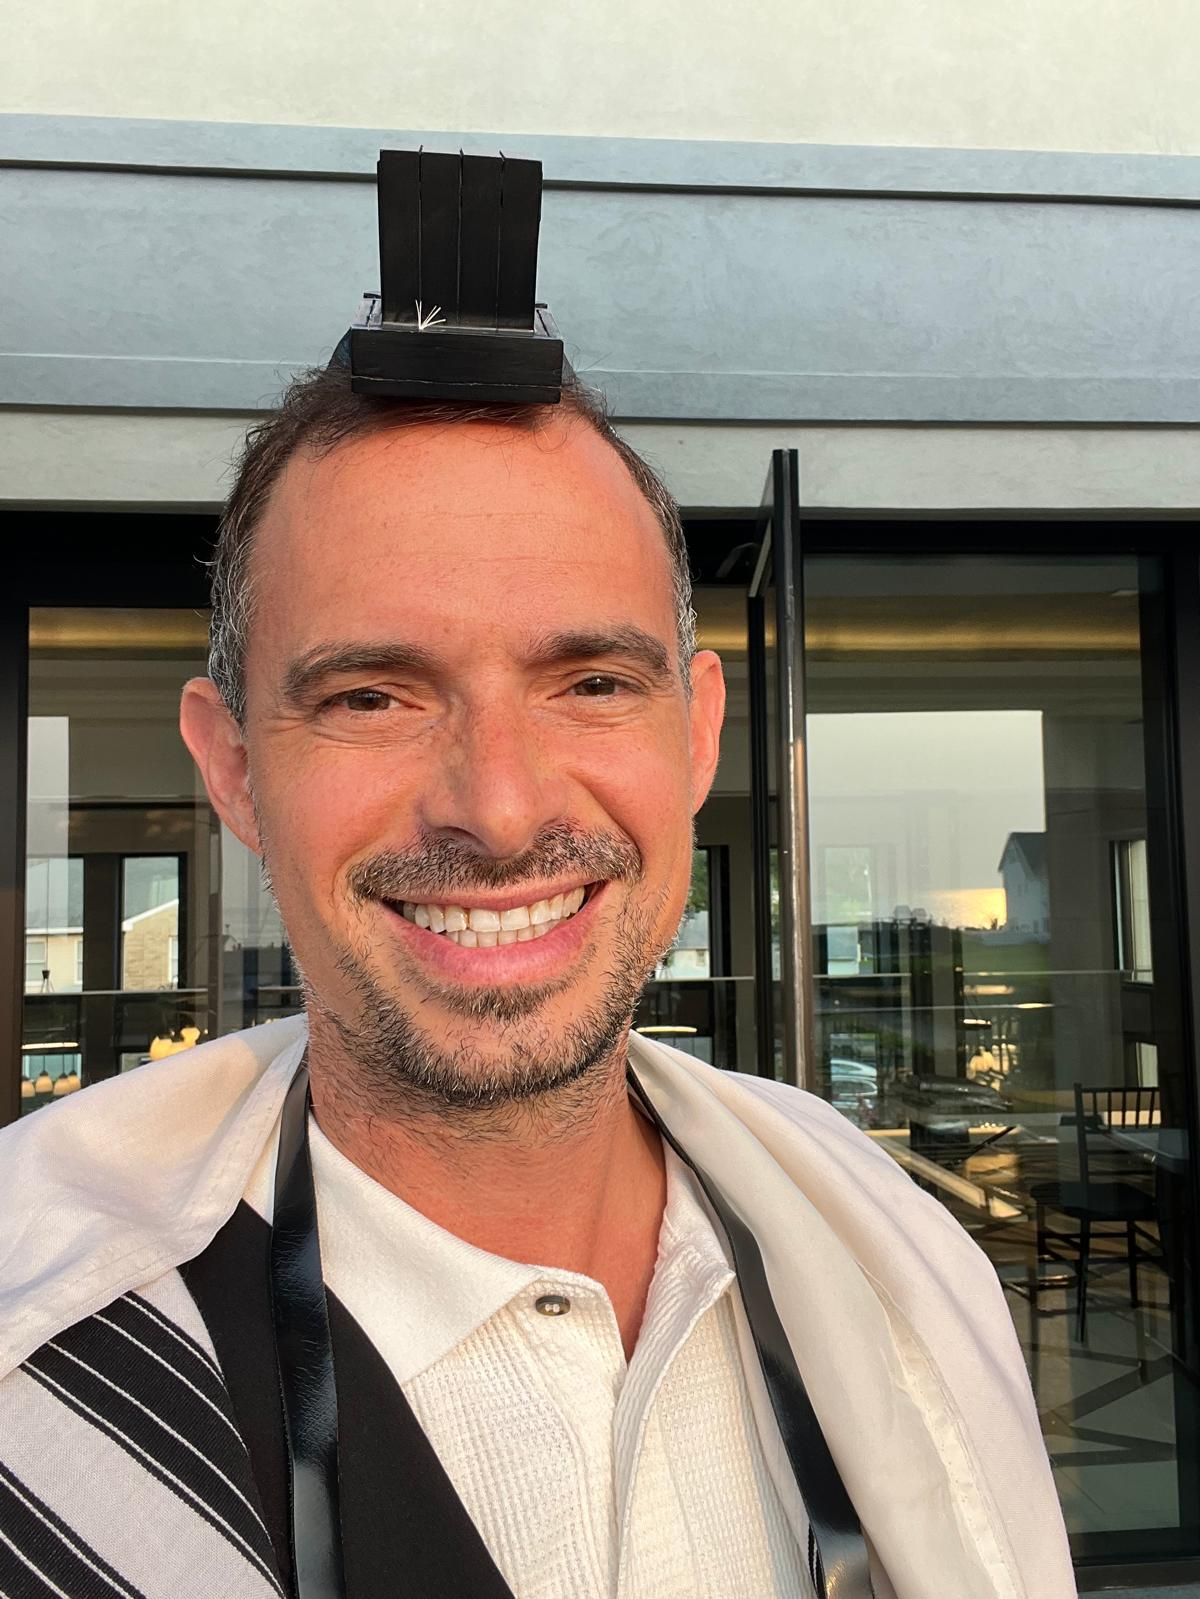tefillin: (354, 141, 565, 413)
